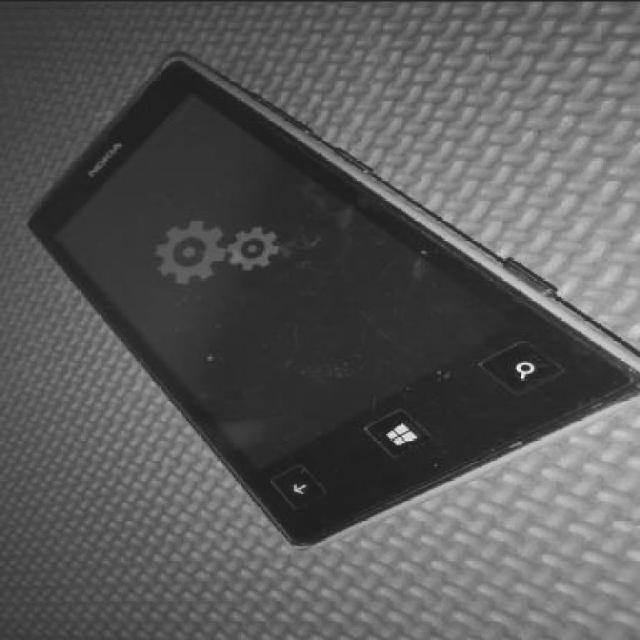fake: (56, 44, 607, 560)
